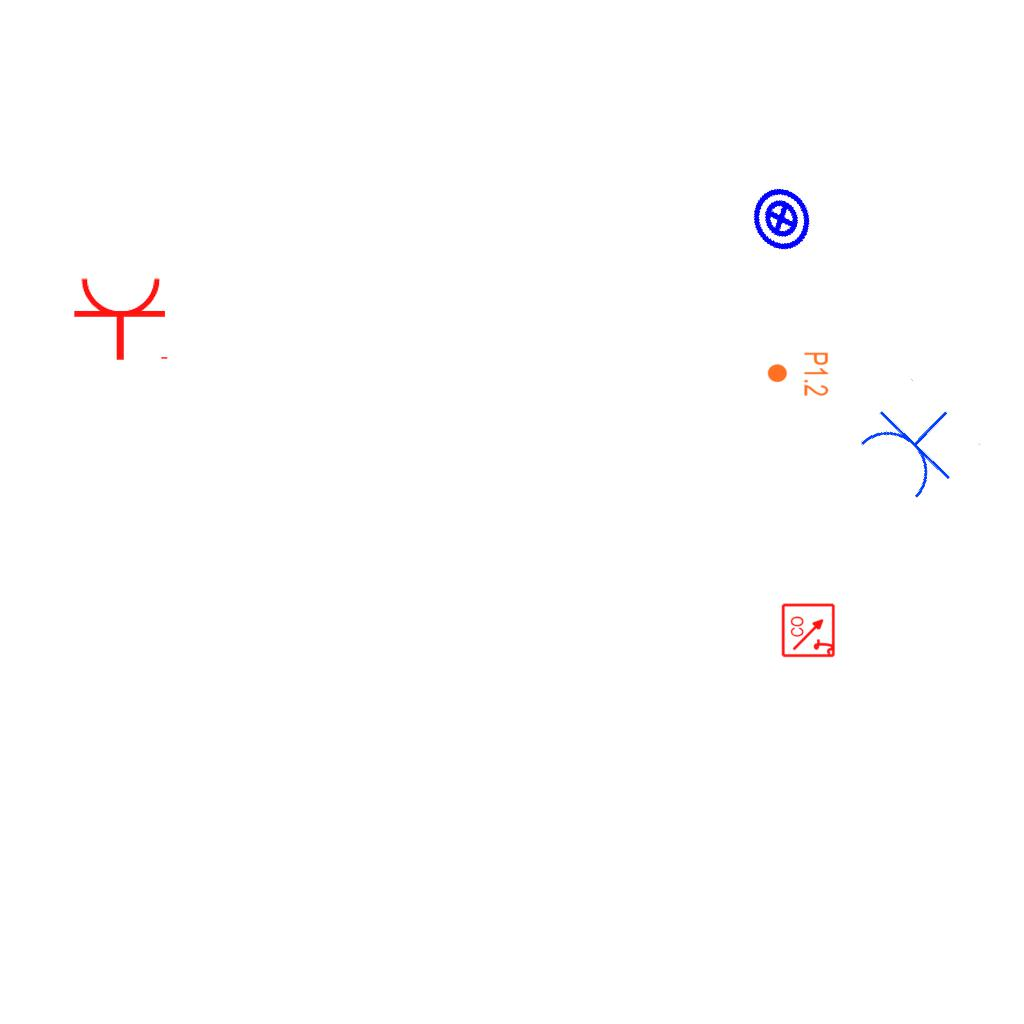Downlight_LED_Einbauleuchten_Flur: (766, 351, 830, 397)
ROA_Rauchmelder_optisch_mit_Signalgeber_(Sockelsirene): (781, 602, 837, 658)
Schukosteckdose_einfach: (849, 376, 983, 509), (72, 275, 172, 362)
Taster_beleuchtet: (738, 176, 824, 262)
